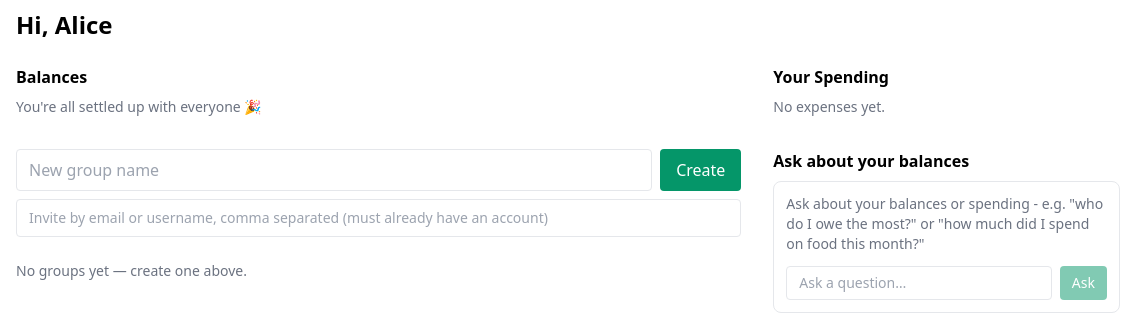
Test: DashboardPage › surfaces unmatched invite identifiers as an error instead of silently dropping them
This screenshot has width=1137, height=330.
Expected: the text "No groups yet — create one above." is shown, [16,261,247,280]
Step 1. Type "Cabin Weekend" into the field with placeholder "New group name" → {"x": 334, "y": 170}, box [16,149,652,191]
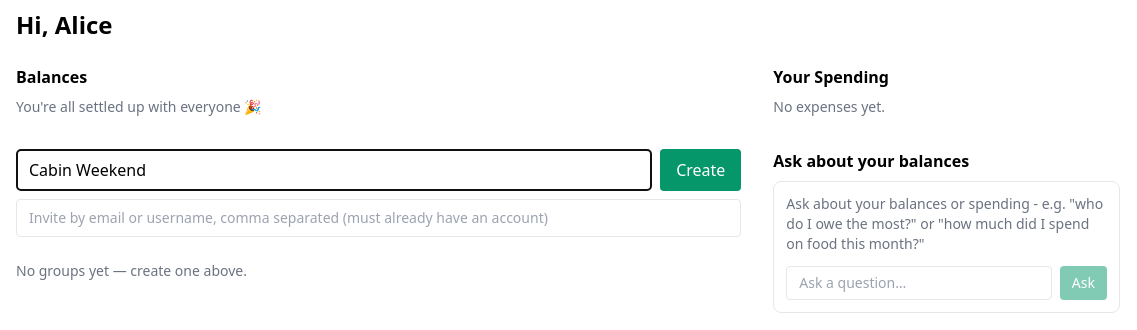
Step 2. Click the button "Create" → {"x": 701, "y": 170}, box [660,149,741,191]
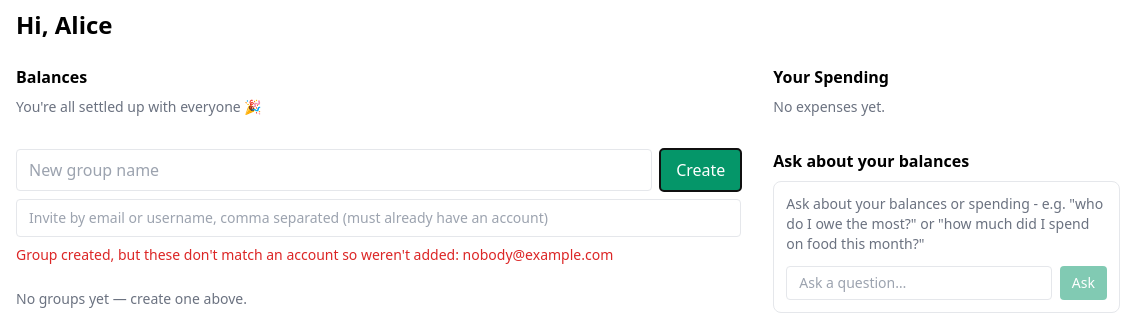
Expected: the text "nobody@example.com" is shown, [16,245,613,264]
